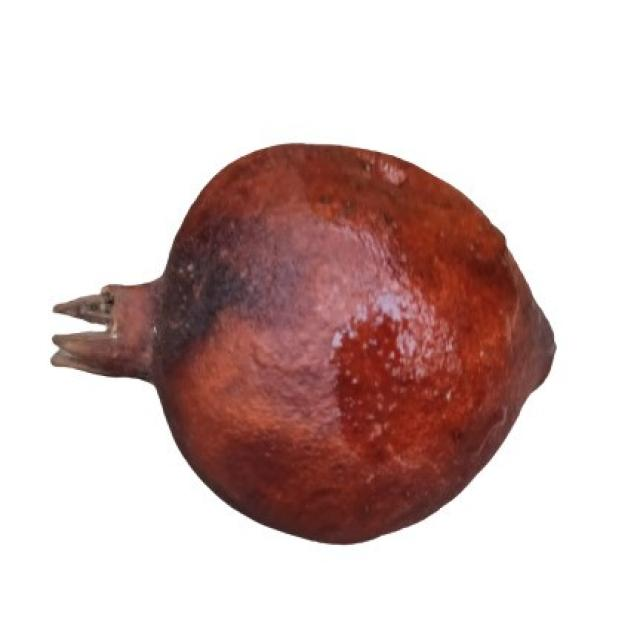Rotten: (52, 138, 557, 545)
